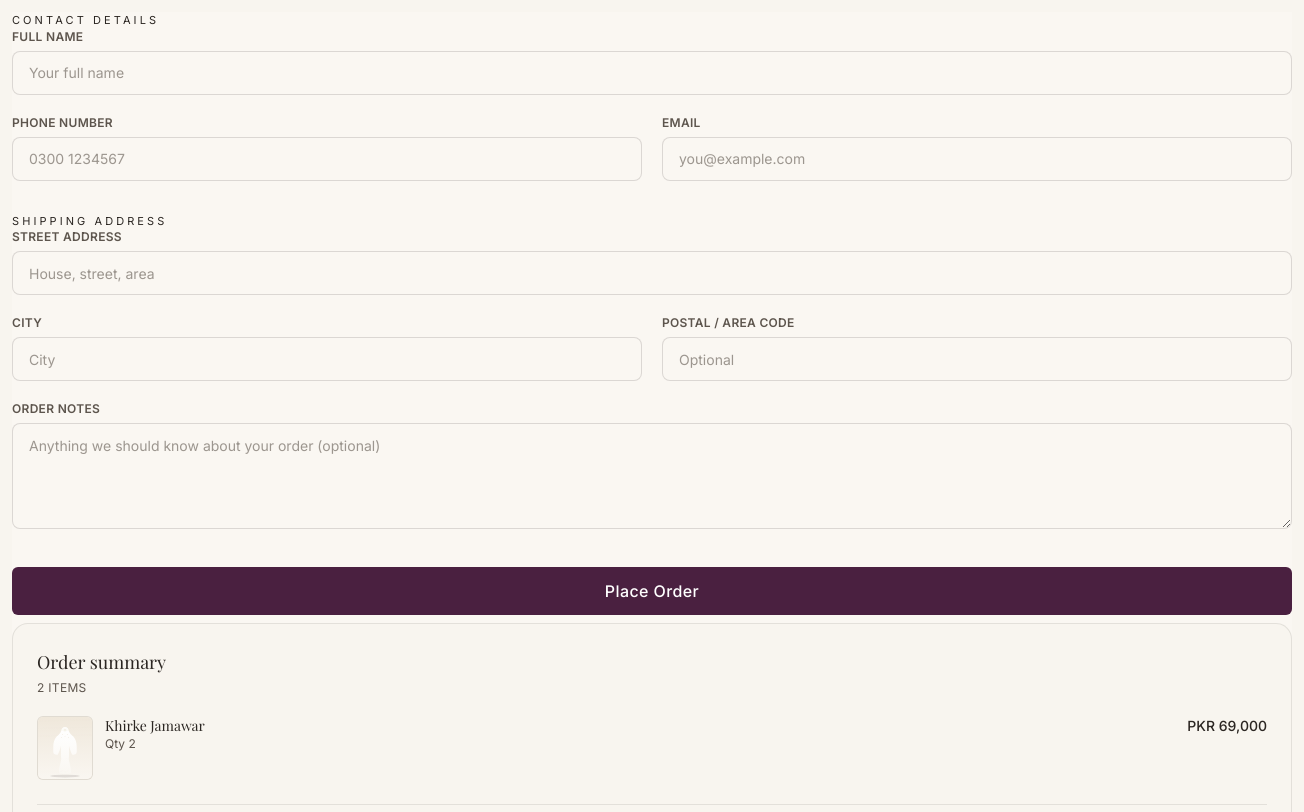
Scenario: CheckoutForm › rejects an invalid Pakistani phone without submitting
This screenshot has width=1304, height=812.
In the field labelled "Full name": (652, 72) [12,50,1292,94], type "Ali Raza"
In the field labelled "Phone number": (327, 158) [12,136,642,180], type "03001234567"
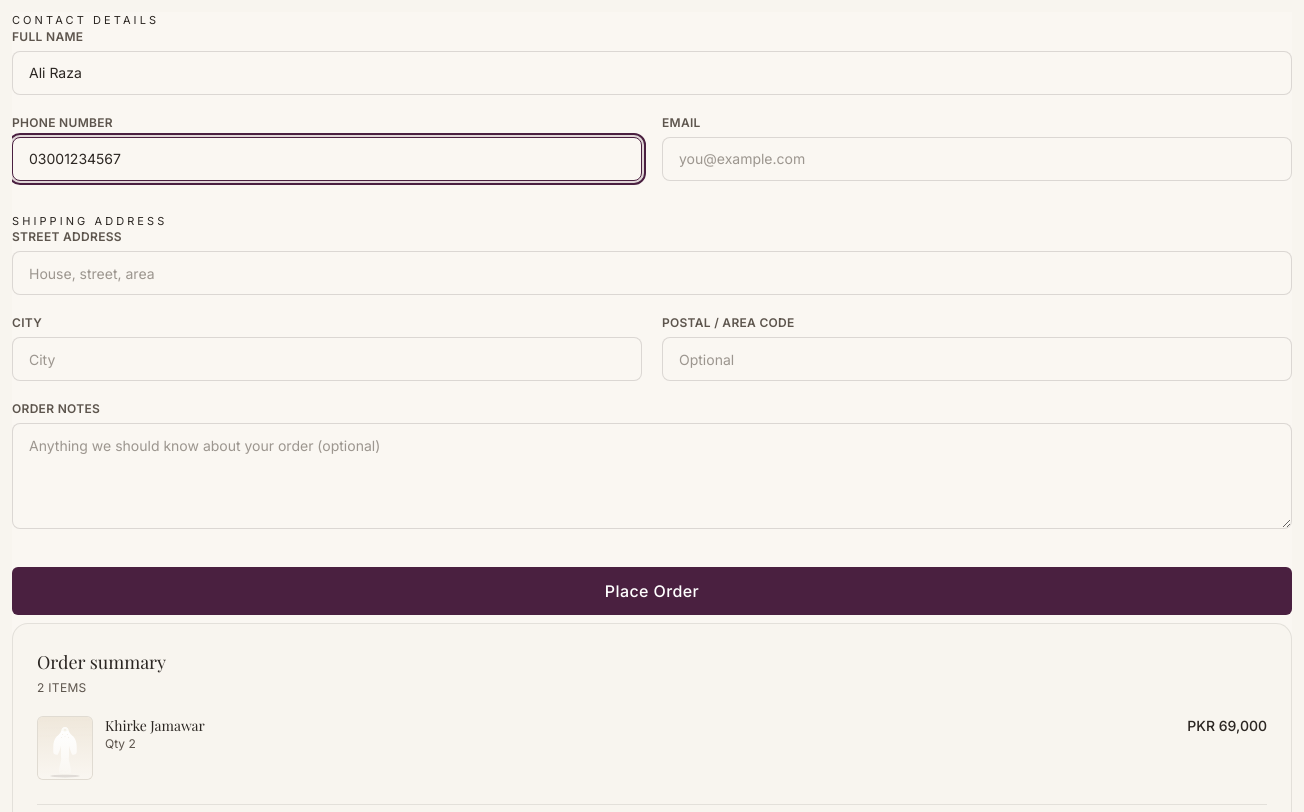
In the field labelled "Email": (977, 158) [662,136,1292,180], type "ali@example.com"
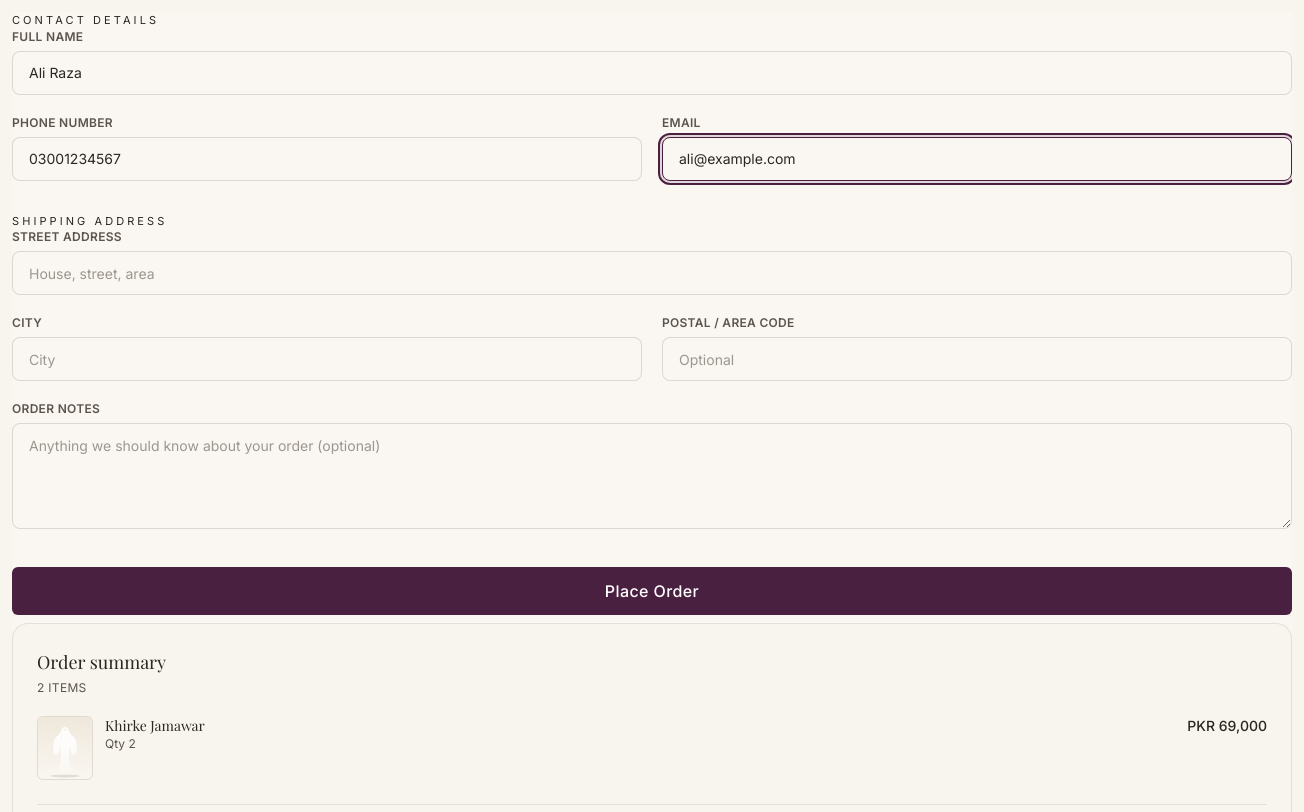
In the field labelled "Street address": (652, 273) [12,251,1292,295], type "House 44, Main Boulevard"
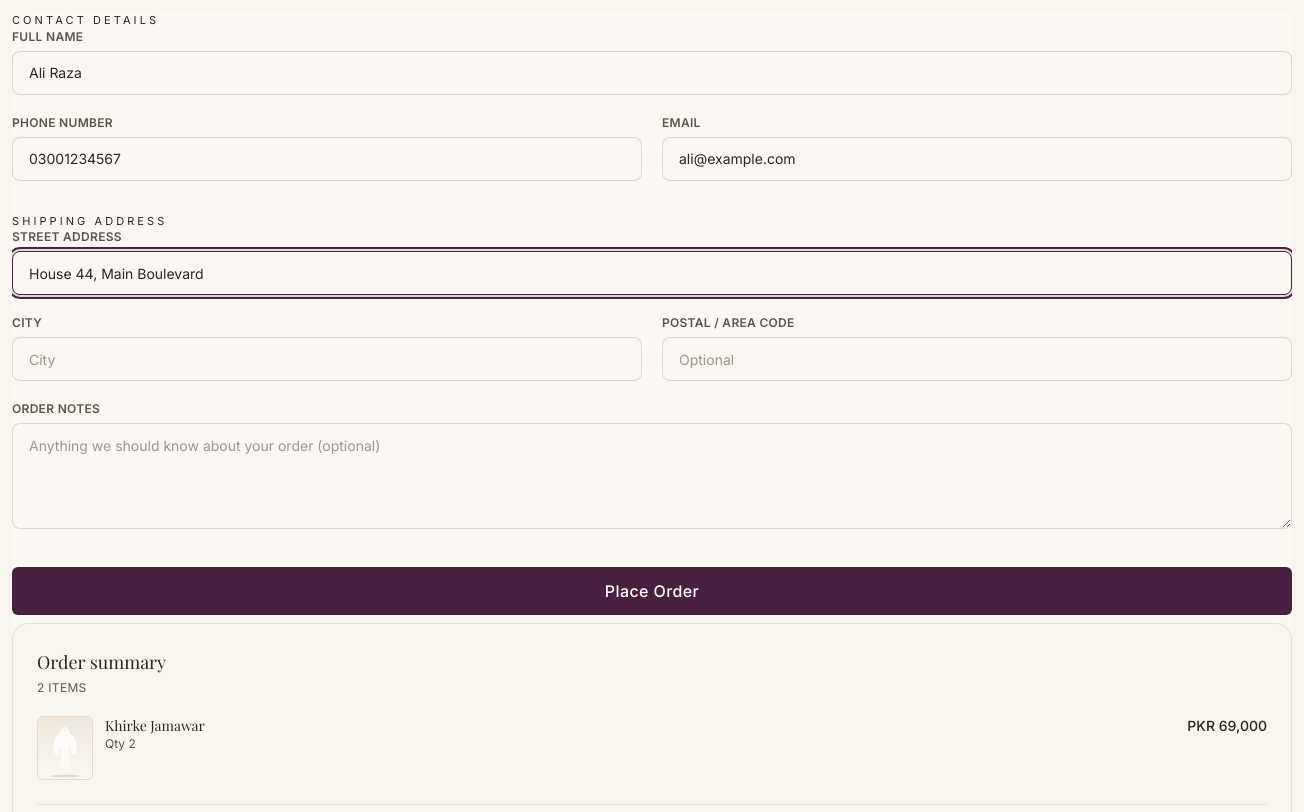
In the field labelled "City": (327, 359) [12,337,642,381], type "Lahore"
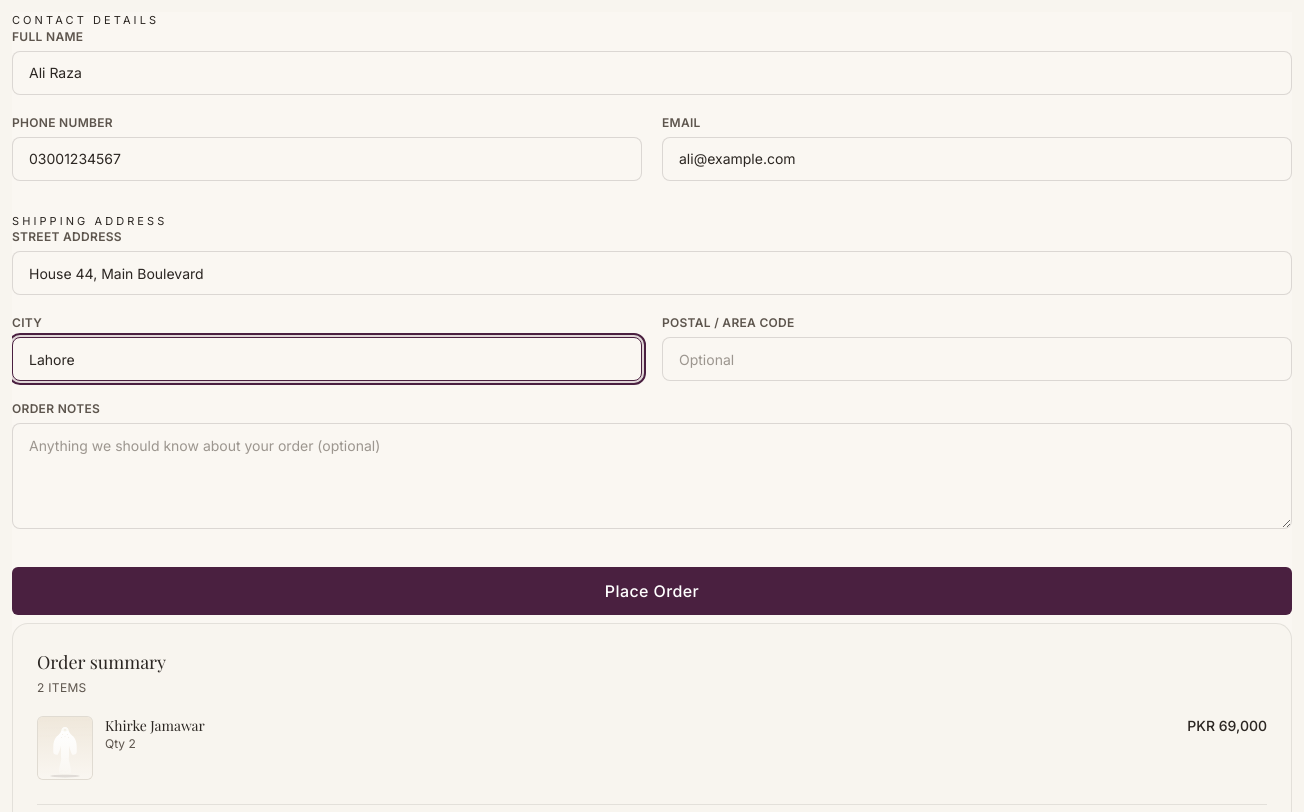
Replace the text in the field labelled "Phone number" with "12345": (327, 158) [12,136,642,180]
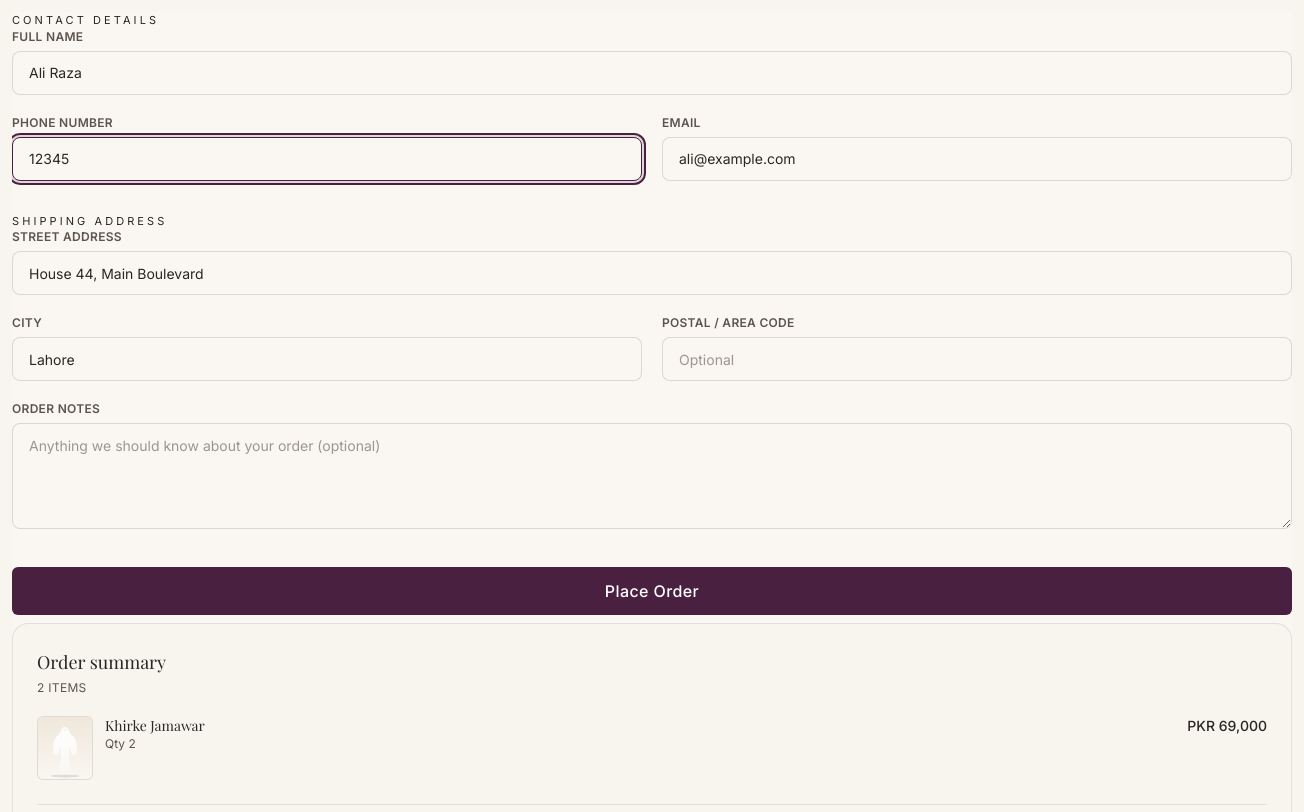
Click the button "Place Order": (652, 591) [12,567,1292,615]
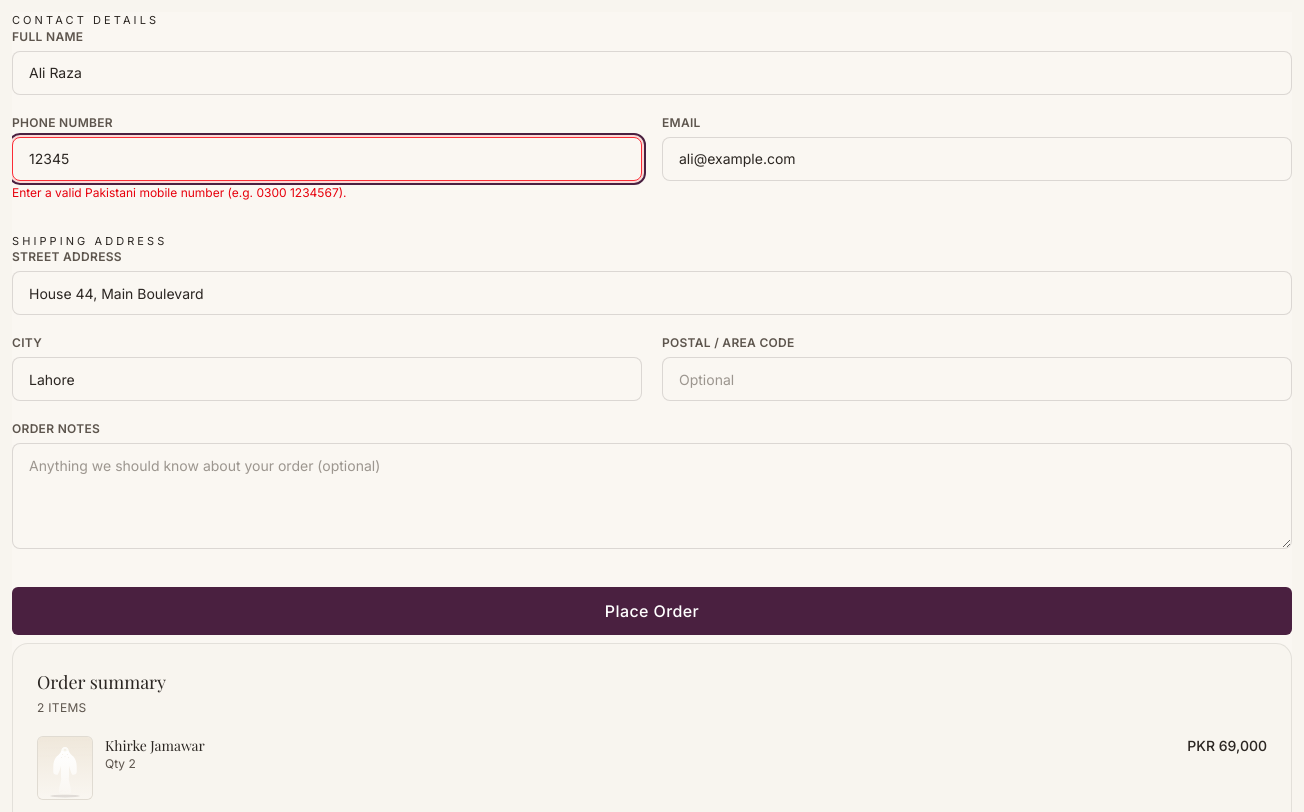
Expected: the text "Enter a valid Pakistani mobile number (e.g. 0300 1234567)." is shown, [12,184,346,200]
